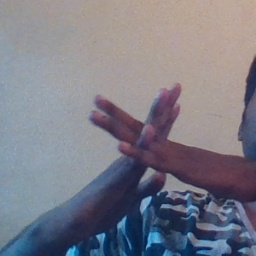W: (89, 77, 196, 212)
